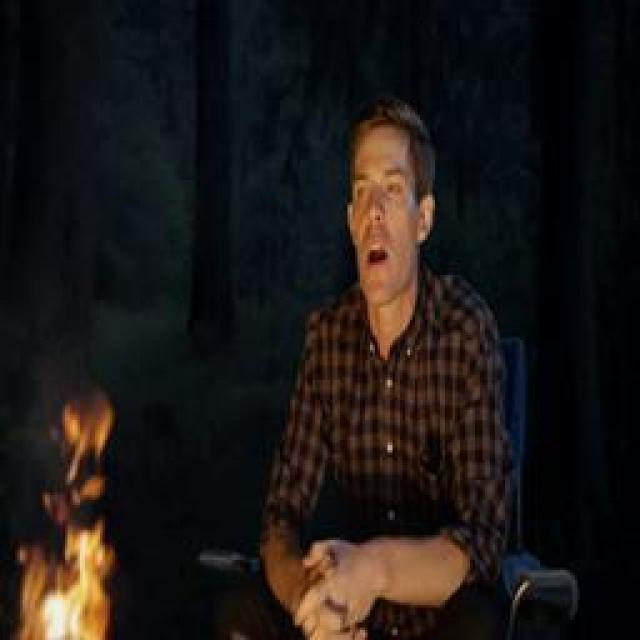Fire: (12, 397, 115, 640)
